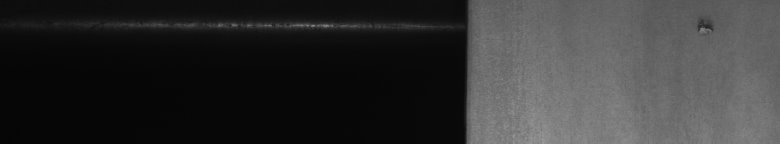fi: (695, 16, 719, 36)
